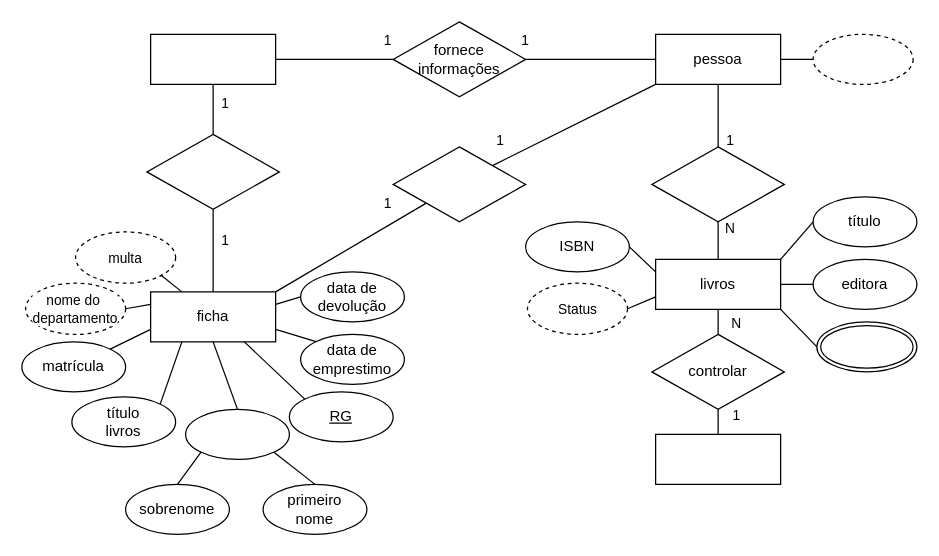
The diagram is 939 pixels wide and 556 high, and some of its shapes have lost their labels. Each missing label, with the centre of its shape:
"autor/es" belongs at (866,346).
"biblioteca" belongs at (717,458).
"bibliotecaria" belongs at (212,58).
"nome" belongs at (236,433).
"possui" belongs at (459,184).
"preenche" belongs at (212,171).
"professor/ aluno" belongs at (862,58).
"solicita" belongs at (717,184).
